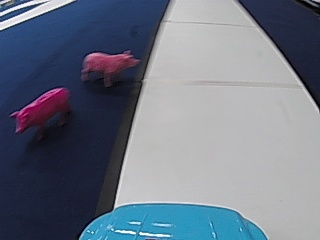pig: (9, 84, 72, 135), (81, 46, 135, 88)
